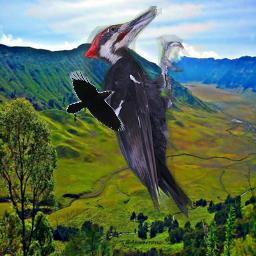Crow: (66, 70, 125, 131)
Woodpecker: (83, 6, 194, 219)
